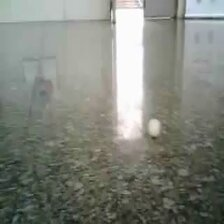w: (146, 117, 163, 139)
